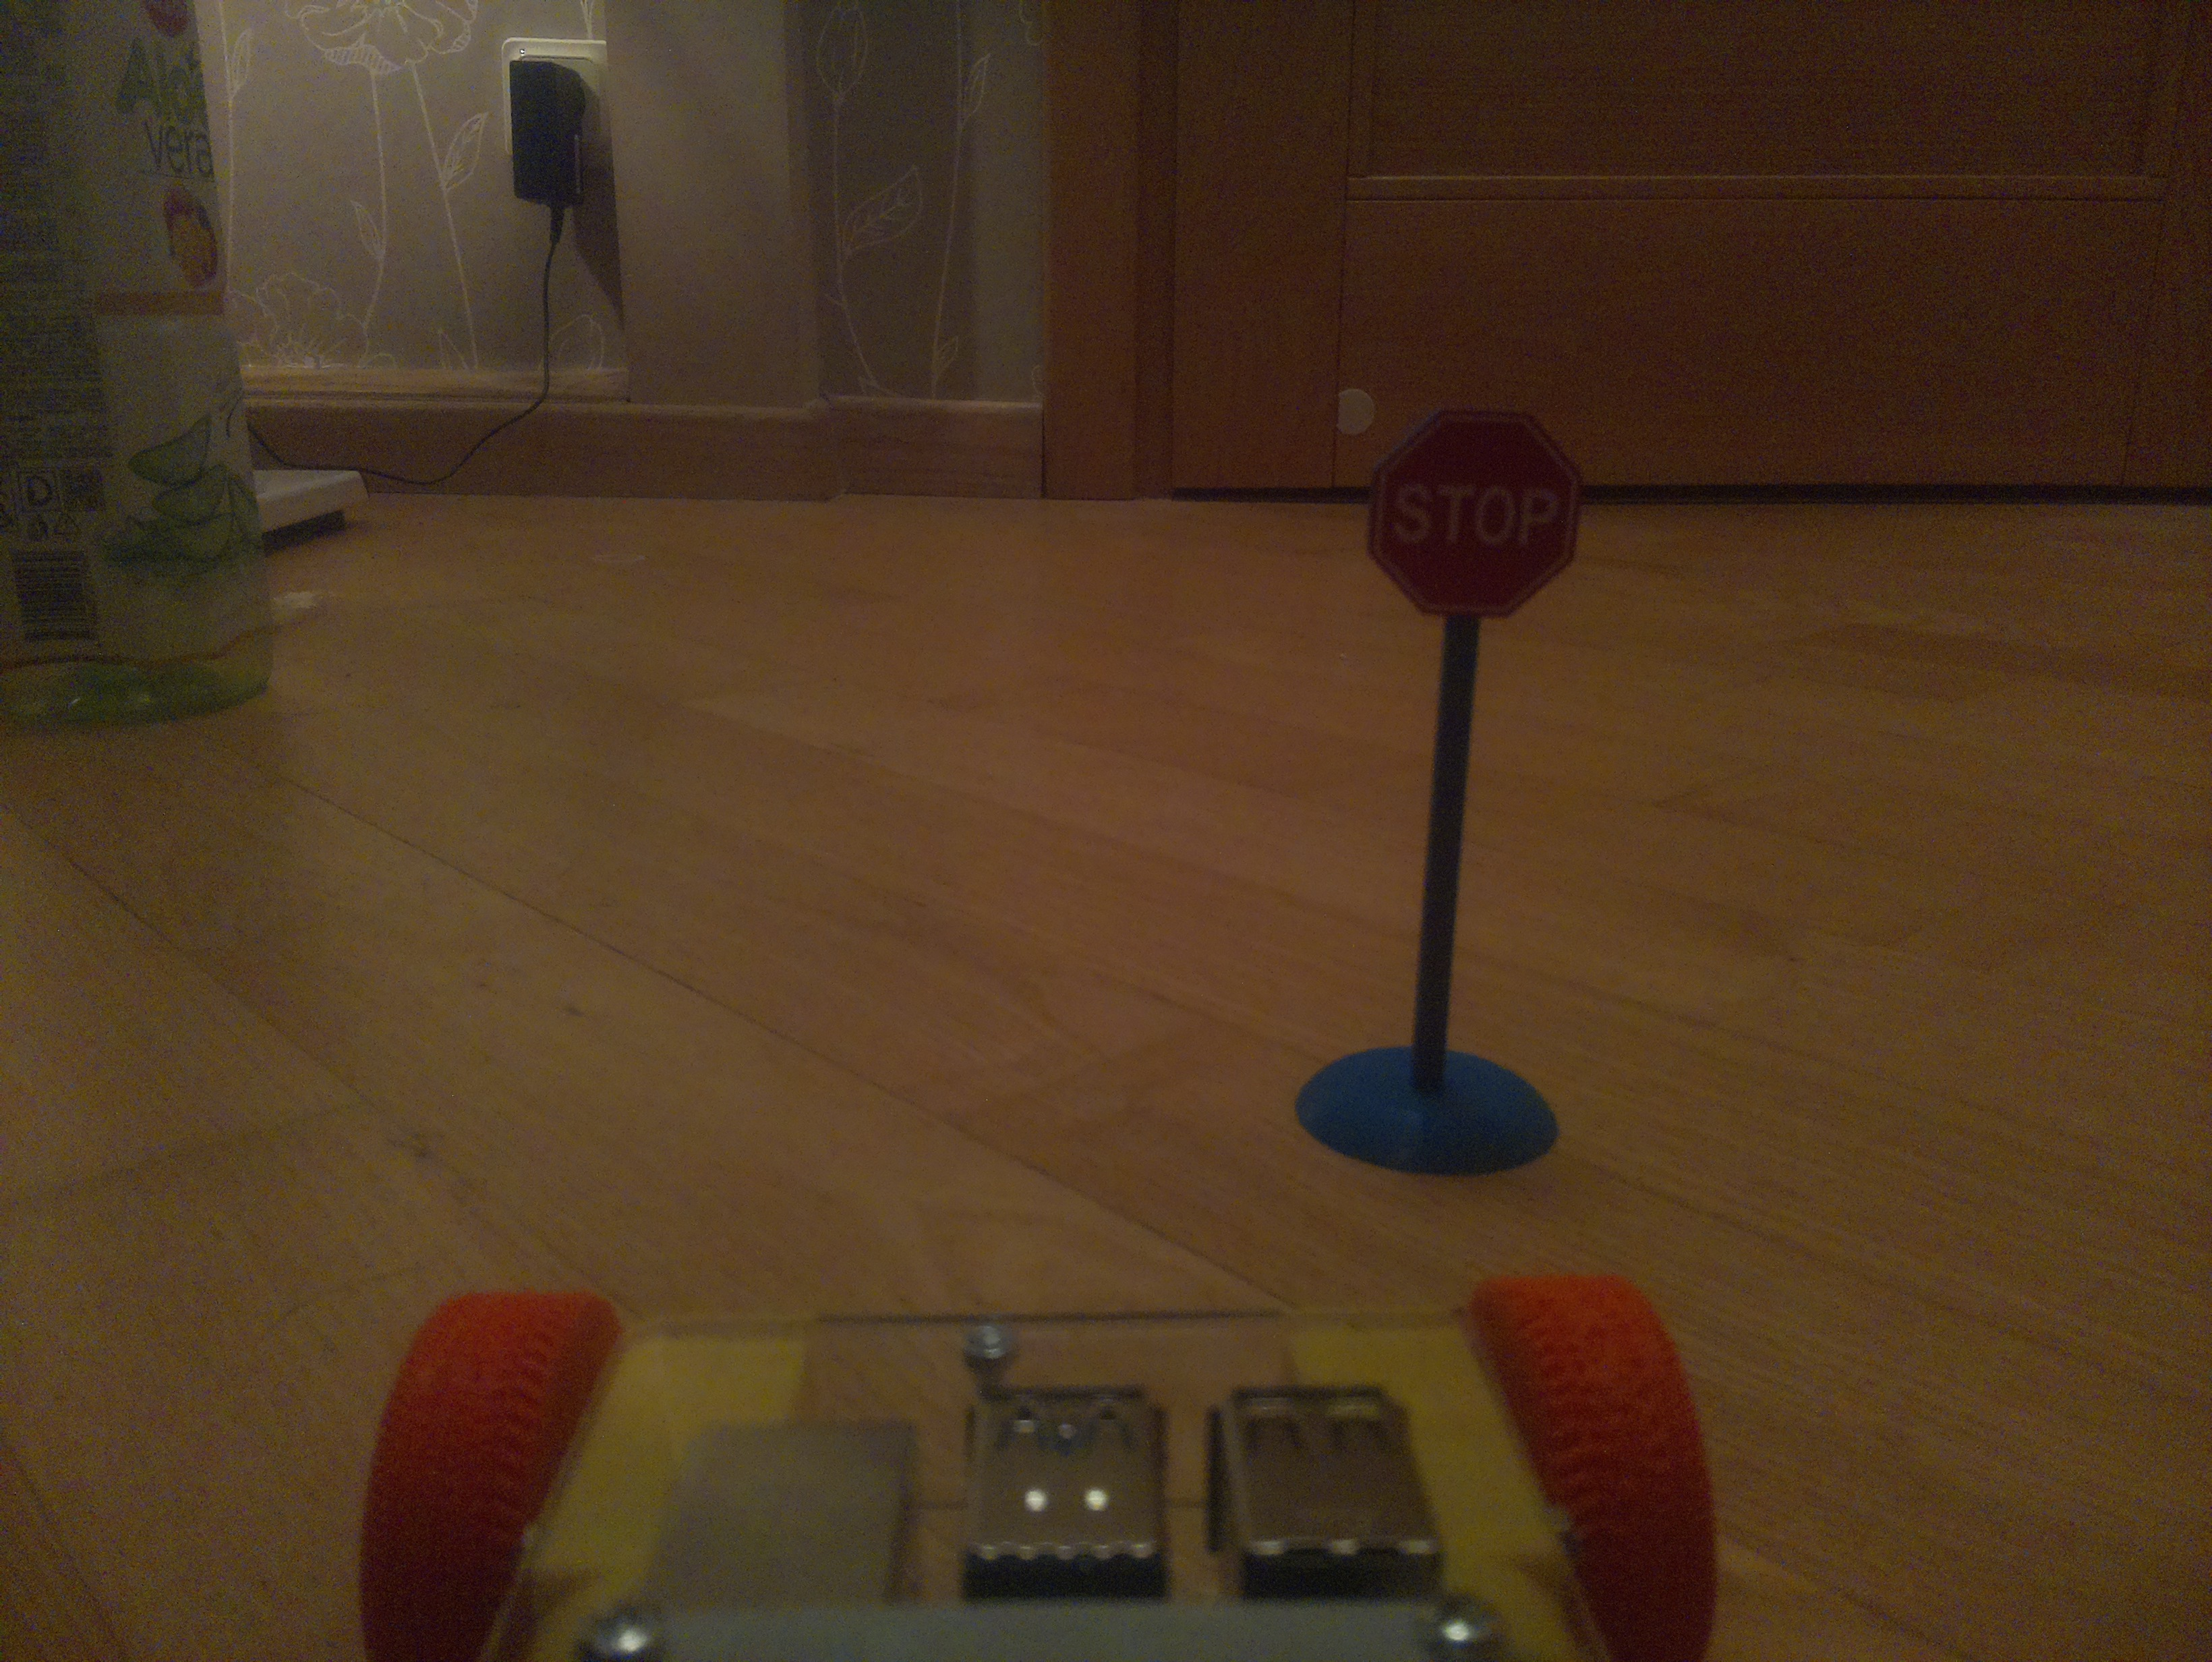stop: (1369, 409, 1581, 616)
